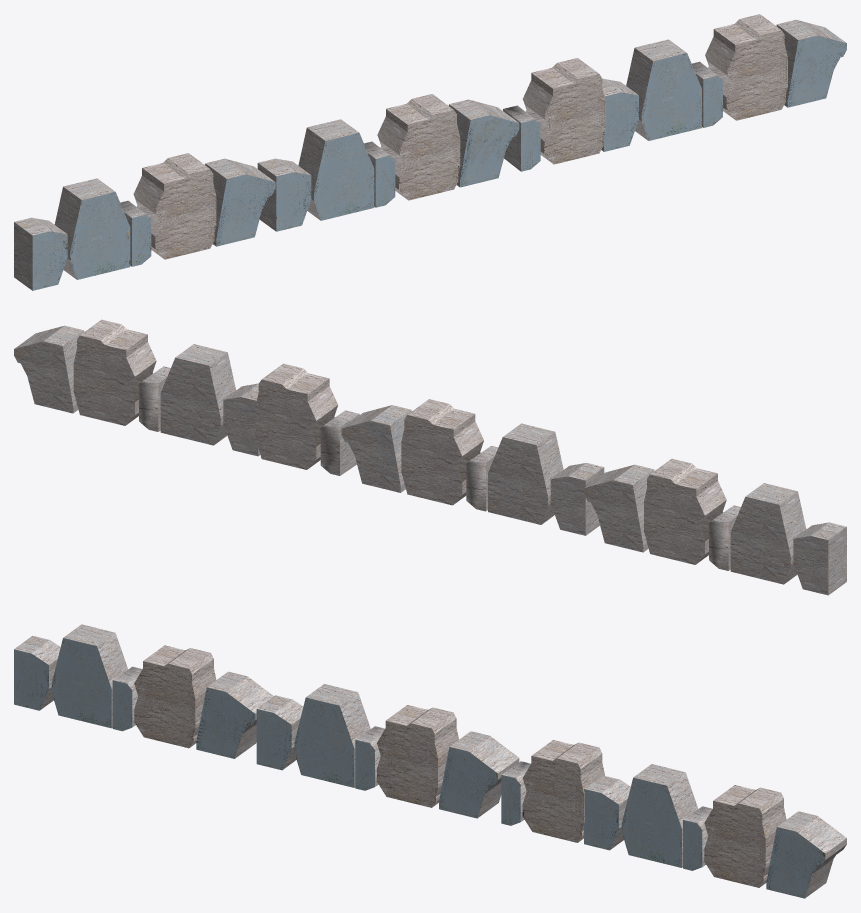
Rendered from piedras.obj.
3 renders of one model, top to bottom at view 1: azimuth 30°, elevation 25°; view 2: azimuth 150°, elevation 25°; view 3: azimuth 330°, elevation 25°, orthographic.
Parts seen in each view (by area): view 1: Mesh3 Group1 Model, Mesh6 Group1 Model, Mesh10 Group2 Model, Mesh15 Group3 Model, Mesh9 Group2 Model, Mesh2 Group1 Model, Mesh14 Group3 Model, Mesh1 Group1 Model, Mesh8 Group2 Model, Mesh13 Group3 Model, Mesh4 Group1 Model, Mesh11 Group2 Model (+5 smaller); view 2: Mesh10 Group2 Model, Mesh6 Group1 Model, Mesh15 Group3 Model, Mesh3 Group1 Model, Mesh2 Group1 Model, Mesh14 Group3 Model, Mesh9 Group2 Model, Mesh8 Group2 Model, Mesh13 Group3 Model, Mesh1 Group1 Model, Mesh4 Group1 Model, Mesh11 Group2 Model (+5 smaller); view 3: Mesh15 Group3 Model, Mesh10 Group2 Model, Mesh3 Group1 Model, Mesh6 Group1 Model, Mesh9 Group2 Model, Mesh2 Group1 Model, Mesh14 Group3 Model, Mesh13 Group3 Model, Mesh8 Group2 Model, Mesh1 Group1 Model, Mesh11 Group2 Model, Mesh16 Group3 Model (+5 smaller).
Boxes of the visible parts, x1,y1,x2,y2 form: Mesh3 Group1 Model: [133, 153, 216, 259]; Mesh6 Group1 Model: [522, 58, 605, 164]; Mesh10 Group2 Model: [377, 94, 460, 200]; Mesh15 Group3 Model: [705, 14, 787, 120]; Mesh9 Group2 Model: [298, 119, 374, 220]; Mesh2 Group1 Model: [54, 178, 130, 279]; Mesh14 Group3 Model: [626, 39, 701, 140]; Mesh1 Group1 Model: [205, 158, 275, 246]; Mesh8 Group2 Model: [449, 99, 519, 187]; Mesh13 Group3 Model: [776, 19, 846, 107]; Mesh4 Group1 Model: [14, 217, 67, 290]; Mesh11 Group2 Model: [257, 158, 311, 231]; Mesh10 Group2 Model: [401, 399, 483, 505]; Mesh6 Group1 Model: [255, 363, 337, 469]; Mesh15 Group3 Model: [73, 319, 156, 425]; Mesh3 Group1 Model: [644, 458, 726, 564]; Mesh2 Group1 Model: [730, 483, 806, 584]; Mesh14 Group3 Model: [160, 344, 236, 445]; Mesh9 Group2 Model: [488, 423, 563, 524]; Mesh8 Group2 Model: [341, 405, 411, 492]; Mesh13 Group3 Model: [14, 325, 84, 413]; Mesh1 Group1 Model: [584, 464, 654, 552]; Mesh4 Group1 Model: [793, 522, 846, 595]; Mesh11 Group2 Model: [550, 463, 604, 535]; Mesh15 Group3 Model: [704, 785, 786, 887]; Mesh10 Group2 Model: [377, 705, 458, 807]; Mesh3 Group1 Model: [134, 645, 216, 748]; Mesh6 Group1 Model: [522, 740, 604, 842]; Mesh9 Group2 Model: [294, 684, 370, 787]; Mesh2 Group1 Model: [51, 624, 127, 728]; Mesh14 Group3 Model: [621, 764, 697, 867]; Mesh13 Group3 Model: [766, 811, 846, 898]; Mesh8 Group2 Model: [439, 731, 519, 818]; Mesh1 Group1 Model: [196, 671, 273, 758]; Mesh11 Group2 Model: [256, 695, 303, 770]; Mesh16 Group3 Model: [584, 775, 630, 850].
Size of the model in its own units: 717 by 67.53 by 34.12.
